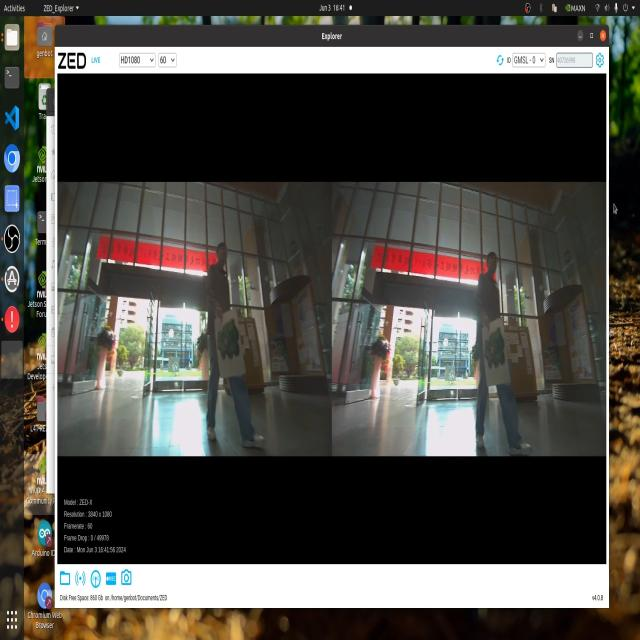green: (478, 322, 510, 377), (213, 322, 247, 370)
